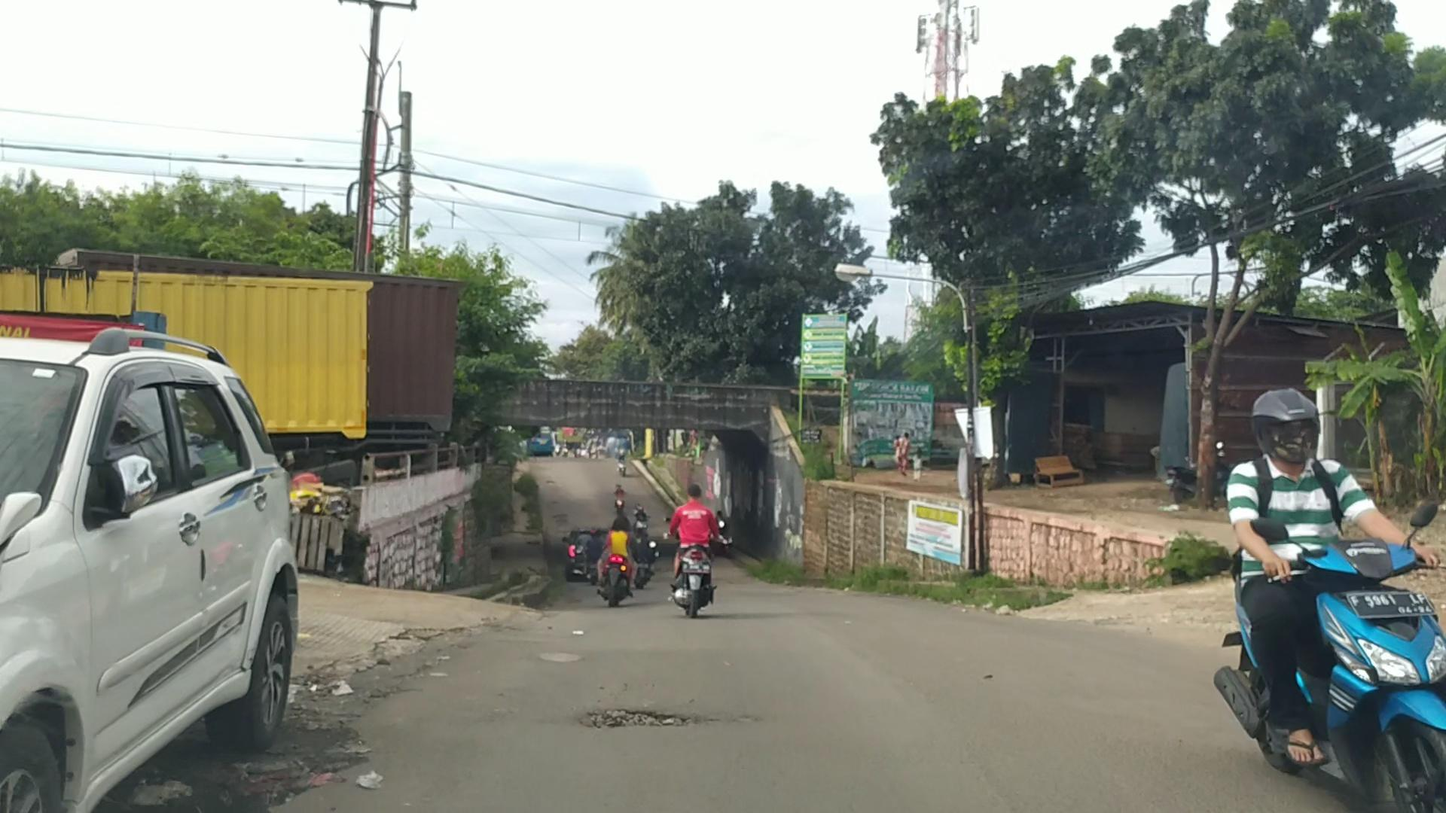pothole: (576, 703, 702, 729)
